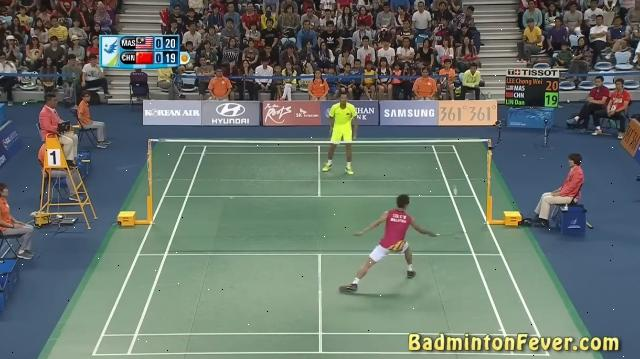Shuttlecock: (452, 186, 462, 198)
